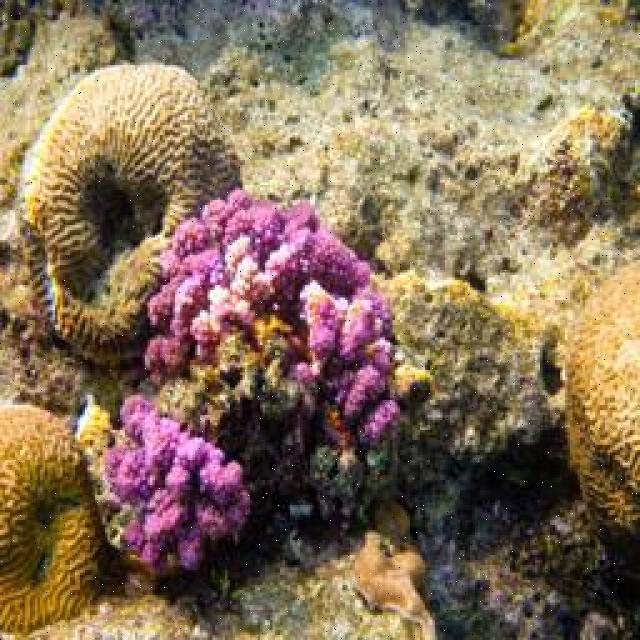reefs: (0, 65, 638, 632), (148, 190, 402, 457), (102, 395, 254, 570)
